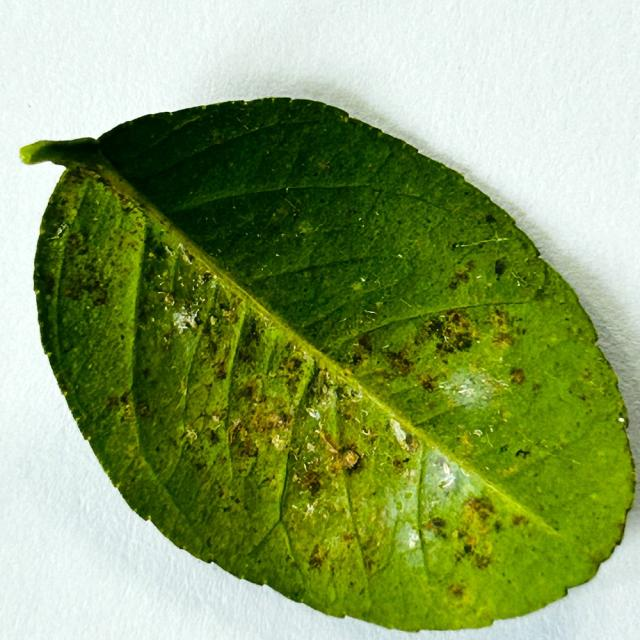Bacterial_Blight: (363, 310, 497, 386), (227, 353, 305, 467), (293, 410, 363, 500), (443, 250, 540, 308), (59, 222, 120, 307), (423, 304, 490, 367), (452, 496, 498, 561), (422, 311, 478, 354), (244, 406, 286, 449), (319, 430, 359, 473), (161, 301, 196, 346), (62, 266, 103, 303), (104, 392, 142, 427), (112, 187, 145, 215), (190, 412, 218, 443), (384, 349, 415, 376), (240, 322, 263, 354), (568, 379, 600, 402), (467, 495, 495, 520), (236, 377, 260, 404), (451, 261, 476, 285), (300, 470, 322, 494), (349, 343, 371, 367), (425, 318, 448, 340), (447, 311, 470, 332), (264, 411, 287, 432), (343, 450, 363, 473), (202, 336, 220, 361), (238, 436, 258, 458), (308, 546, 327, 569), (491, 309, 511, 330), (212, 358, 229, 380), (38, 274, 55, 296), (281, 357, 302, 374), (494, 331, 516, 347), (472, 552, 491, 570), (222, 306, 239, 326), (119, 402, 136, 422), (419, 375, 437, 393), (357, 333, 374, 352), (91, 288, 108, 306), (509, 368, 526, 385), (65, 233, 81, 251), (335, 385, 352, 401), (448, 583, 466, 598), (189, 313, 205, 329), (56, 376, 71, 393), (137, 403, 151, 419), (392, 457, 408, 471), (493, 260, 507, 276), (208, 428, 221, 445), (430, 516, 447, 529), (104, 395, 119, 409), (511, 514, 528, 526), (363, 556, 375, 572), (200, 271, 213, 284), (194, 460, 208, 472), (342, 531, 354, 543), (164, 292, 175, 305), (485, 214, 498, 224)
Lemon: (17, 98, 637, 634)
